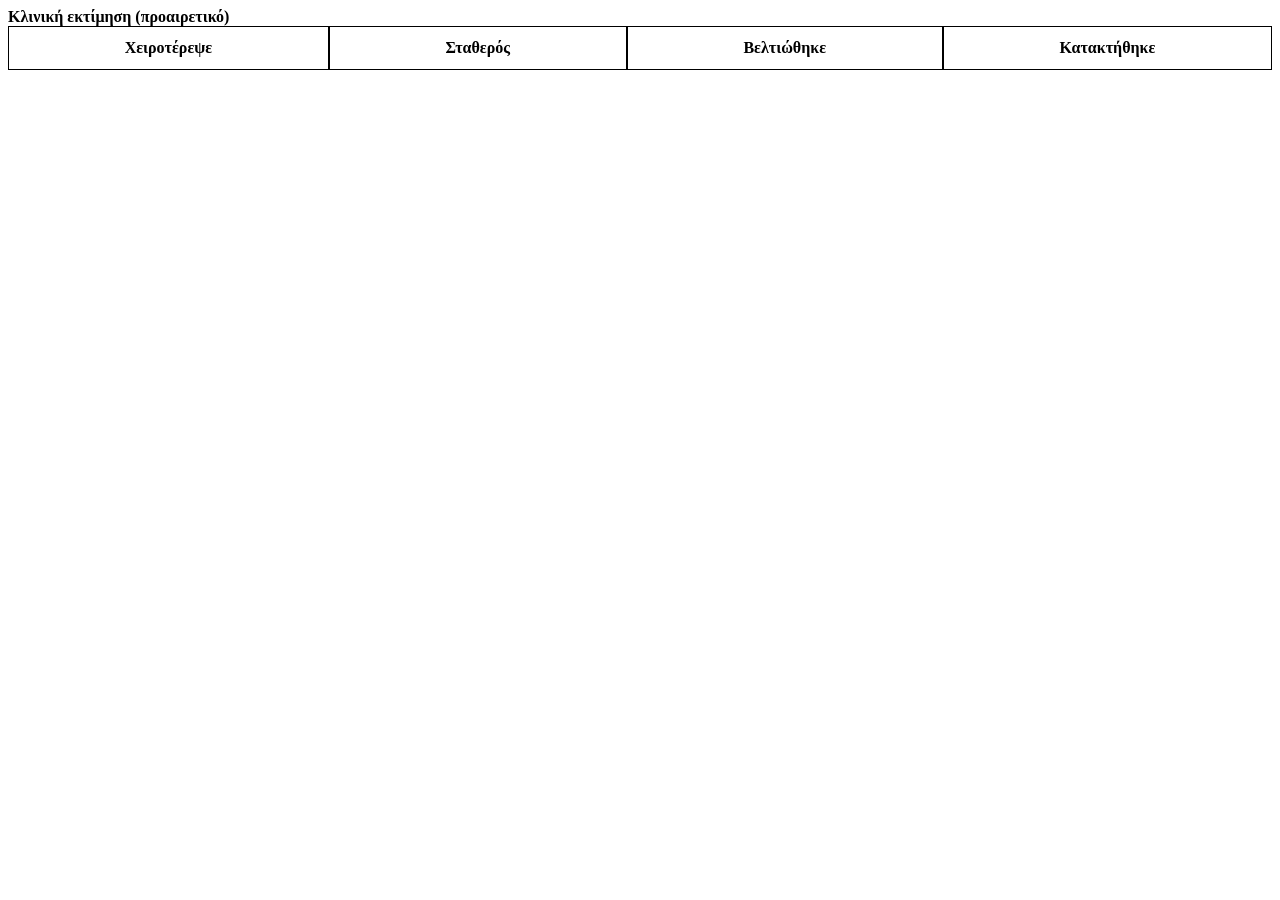
GoalClinicalAssessment — 4 βαθμίδες + προαιρετική σημείωση › «Κατακτήθηκε»: ανοίγει επιβεβαίωση, ΔΕΝ επιλέγεται πριν την επιβεβαίωση
Click the button "Κατακτήθηκε" at coordinates (1107, 48), box [943,26,1272,70]
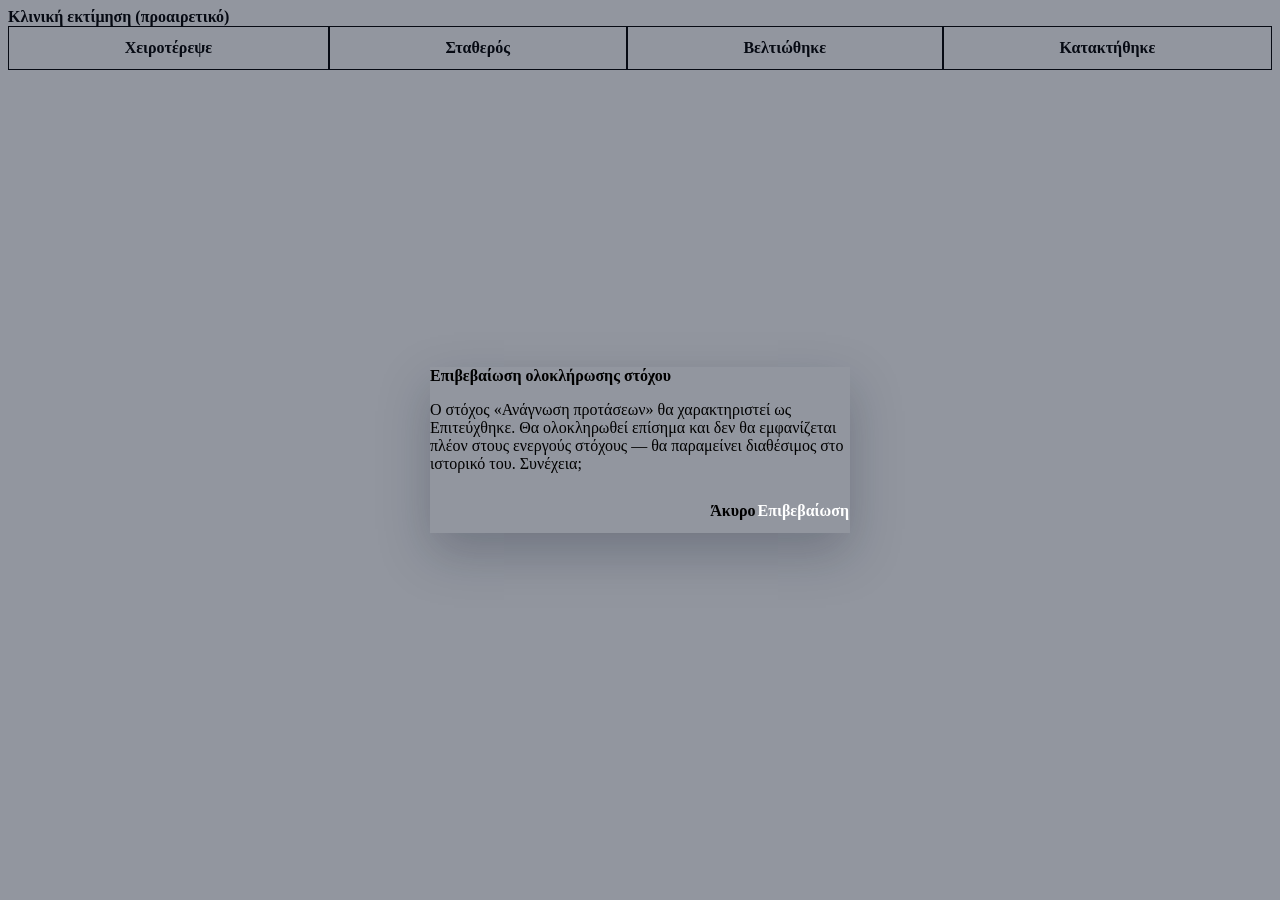
Expected: the dialog is shown, [430,367,850,533]
Expected: the text "Ανάγνωση προτάσεων" is shown, [502,401,646,418]
Expected: the text "δεν θα εμφανίζεται πλέον στους ενεργούς στόχους" is shown, [430,401,843,472]
